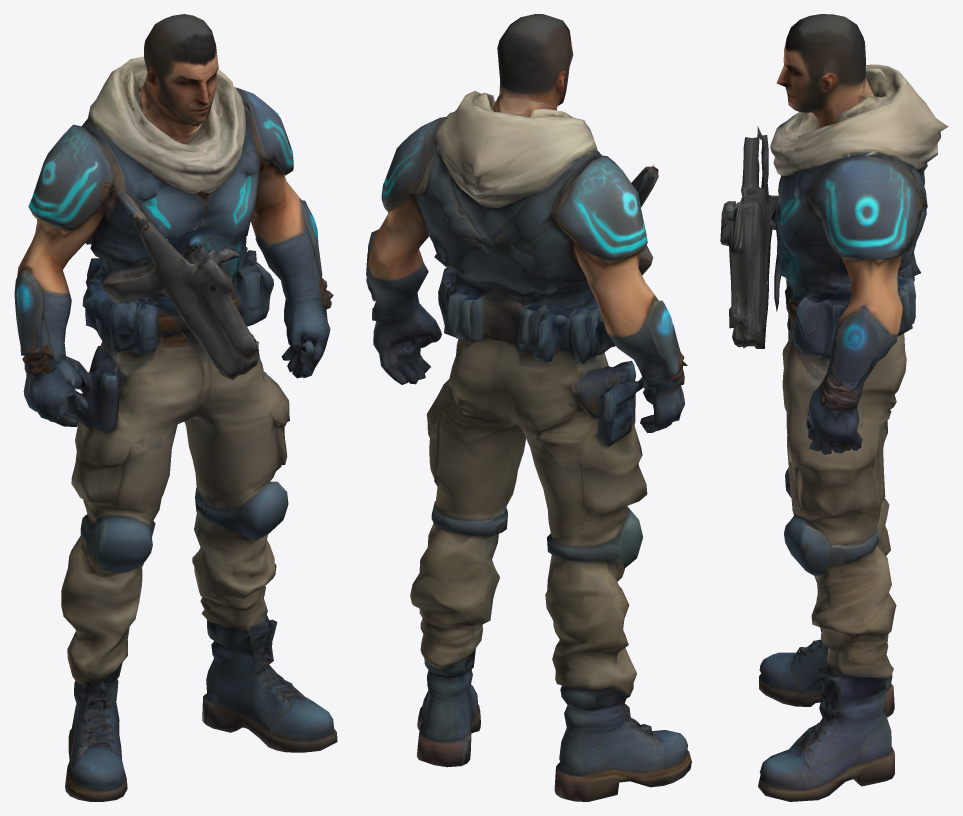
File: Game_Character_Asset_V1.2.glb
3 renders of one model, left to right at view 1: azimuth 30°, elevation 25°; view 2: azimuth 150°, elevation 25°; view 3: azimuth 270°, elevation 25°, orthographic. The views are drawn at different scales.
Bounding box in the file's own units: 0.8613 × 2 × 0.571.
1 material, 1 textured.
